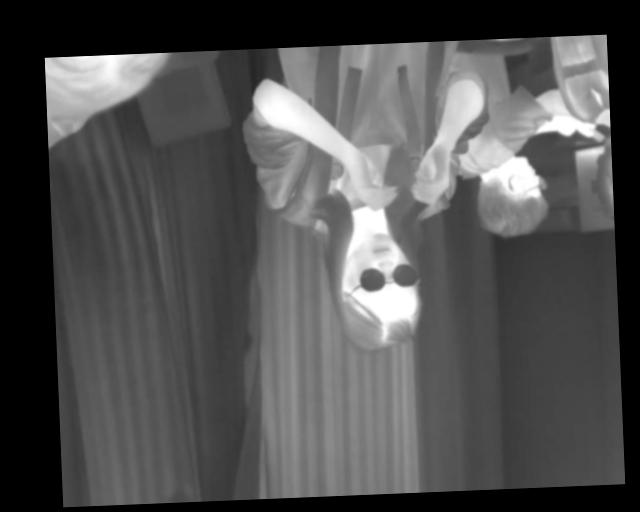face: (335, 231, 424, 352)
